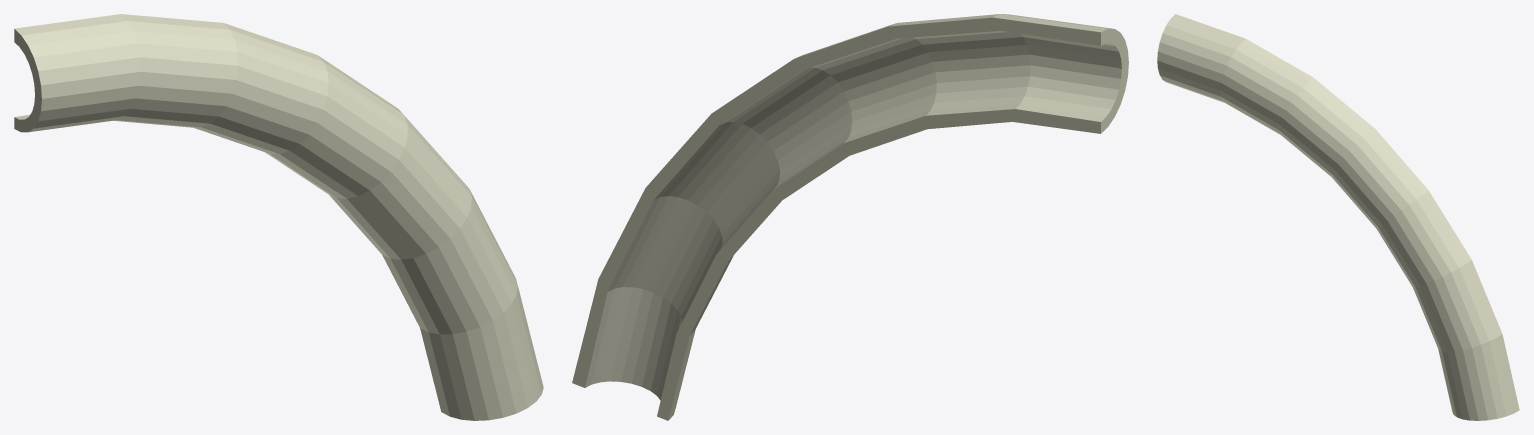
The model's file is section_133.obj.
3 renders of one model, left to right at view 1: azimuth 30°, elevation 25°; view 2: azimuth 150°, elevation 25°; view 3: azimuth 330°, elevation 25°, orthographic. The views are drawn at different scales.
Bounding box in the file's own units: 43.55 × 38.89 × 4.
